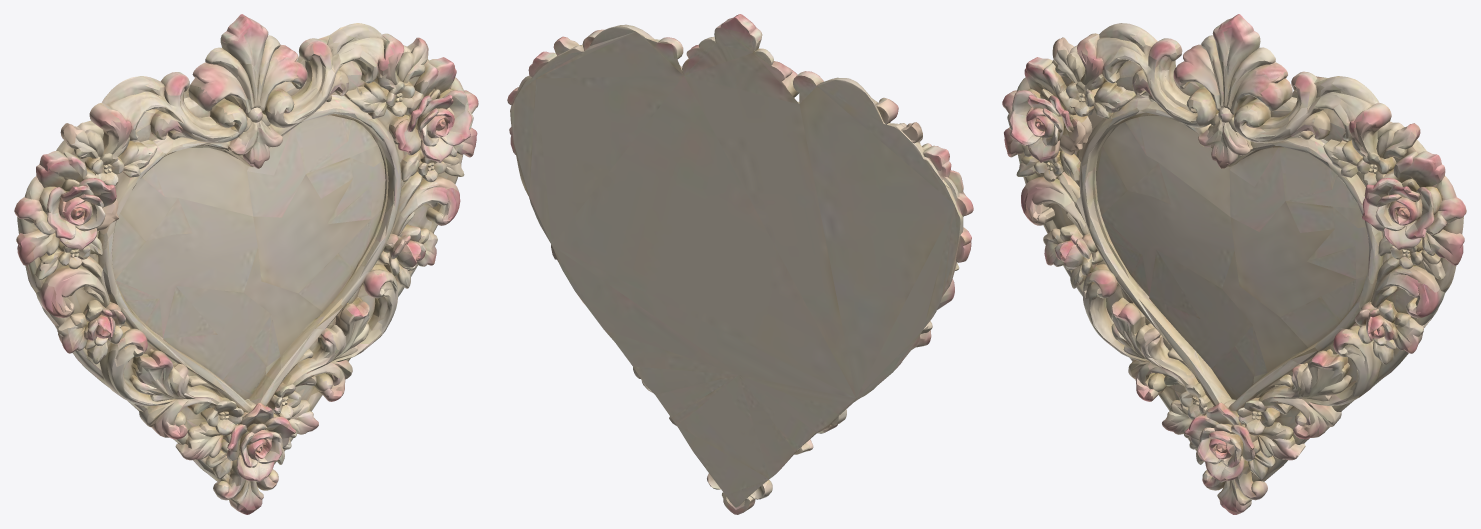
3 views of the same model, side by side, from view 1: azimuth 30°, elevation 25°; view 2: azimuth 150°, elevation 25°; view 3: azimuth 330°, elevation 25° (orthographic).
Visible parts, largest first — view 1: output_unwrapped; view 2: output_unwrapped; view 3: output_unwrapped.
Part boxes in pixels (x1,y1,x2,y2): output_unwrapped: (14, 14, 478, 514); output_unwrapped: (507, 14, 973, 514); output_unwrapped: (1002, 14, 1466, 514).
Bounding box in the file's own units: 1.85 × 1.9 × 0.166.
1 material, 1 textured.
